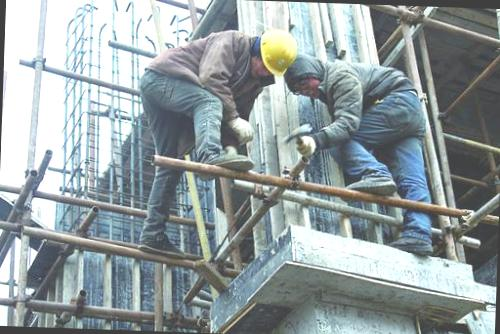no_helmet: (283, 56, 326, 102)
